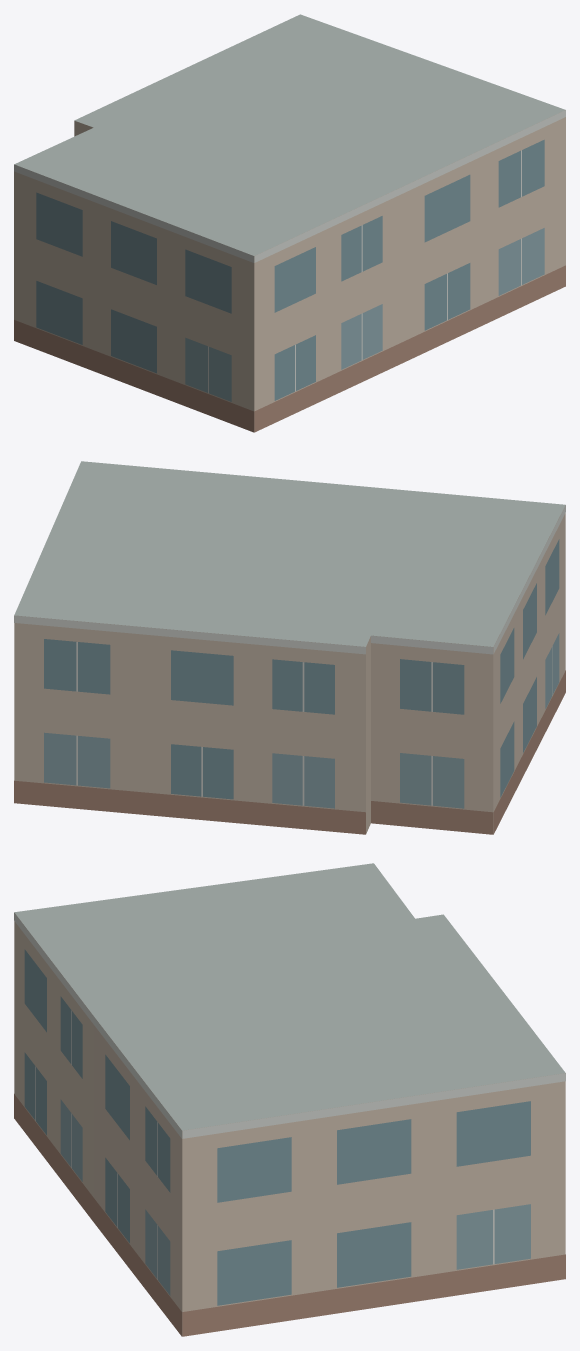
The model's file is survey-upis-32708091.glb.
3 renders of one model, top to bottom at view 1: azimuth 30°, elevation 25°; view 2: azimuth 150°, elevation 25°; view 3: azimuth 270°, elevation 25°, orthographic. The views are drawn at different scales.
Parts seen in each view (by area): view 1: survey-upis-32708091.tmp; view 2: survey-upis-32708091.tmp; view 3: survey-upis-32708091.tmp.
Part boxes in pixels (<box>): survey-upis-32708091.tmp: <box>14,14,565,432</box>; survey-upis-32708091.tmp: <box>14,461,565,834</box>; survey-upis-32708091.tmp: <box>14,863,565,1336</box>.
Size of the model in its own units: 17 by 6.1 by 14.81.
